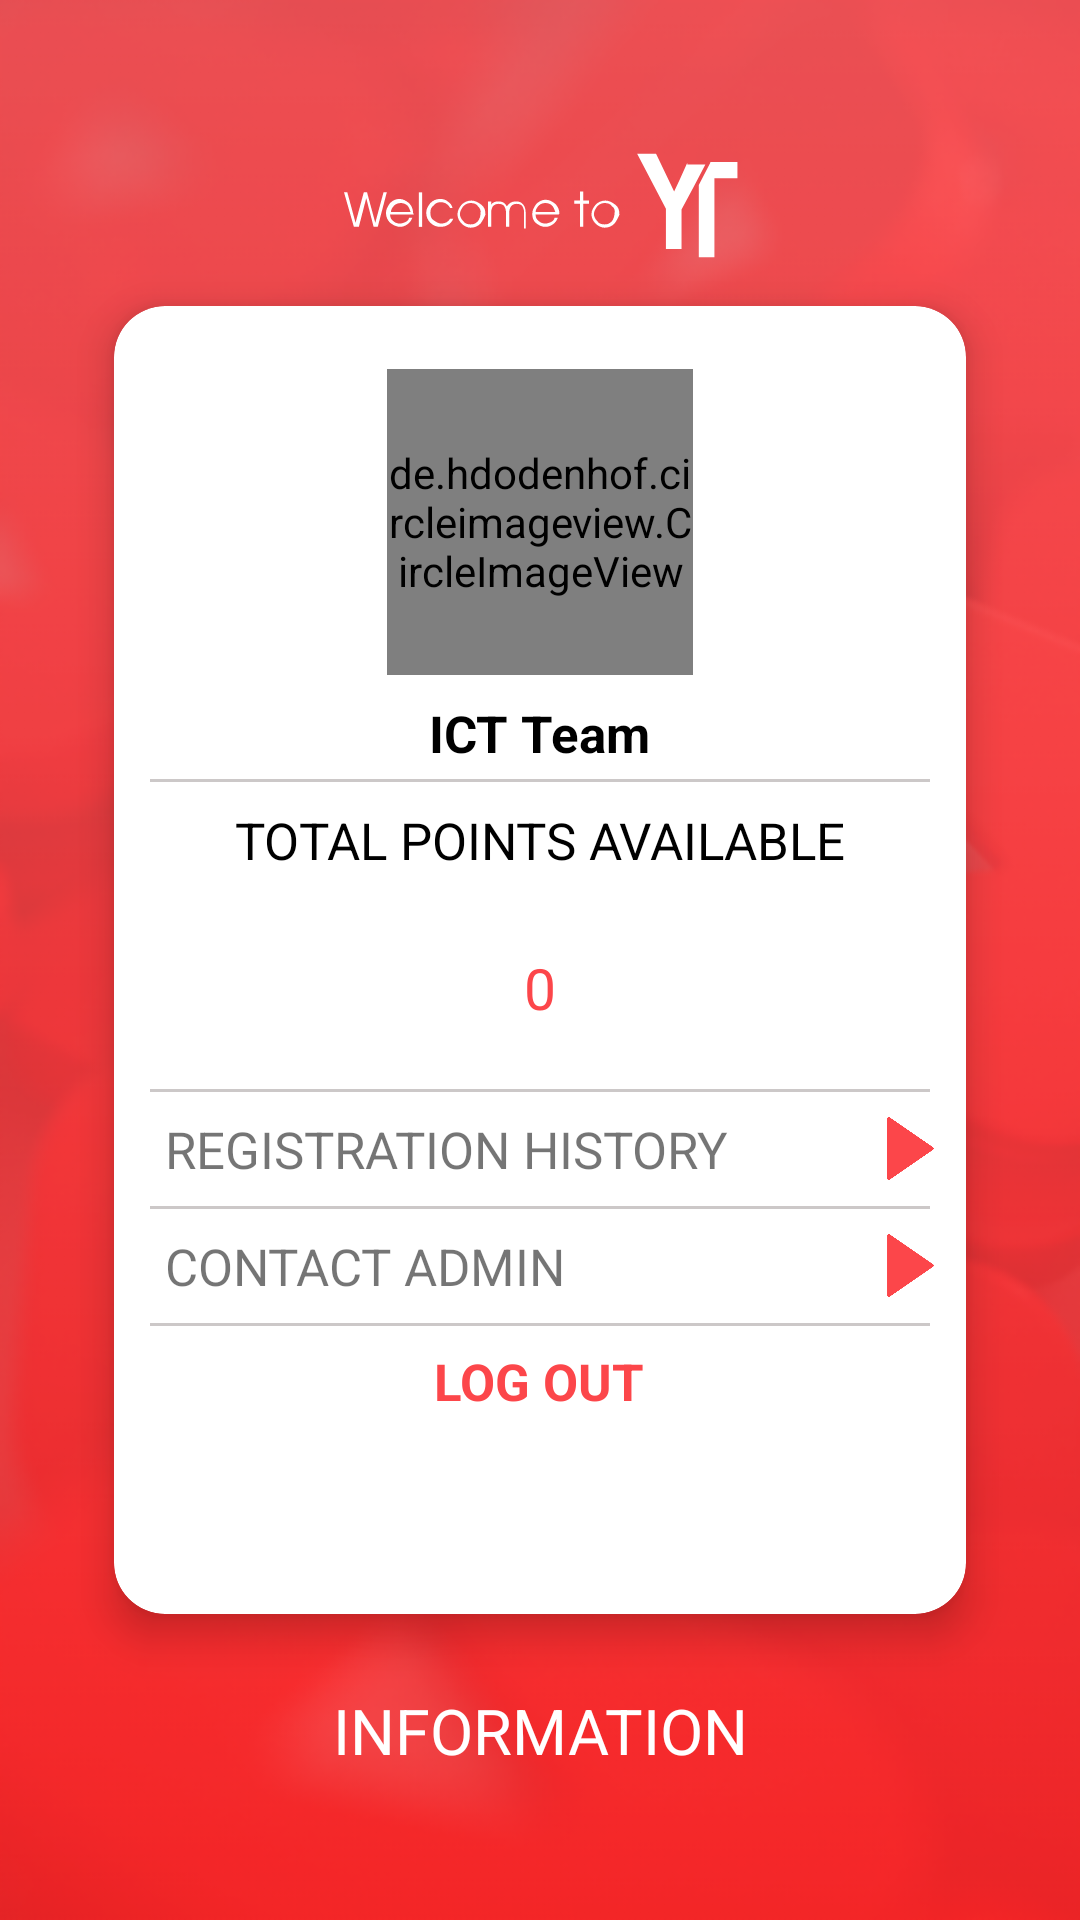

Icon bounding boxes for this 1080 x 1920 phone screenshot, format (x1, y1, x2, y2):
arrow right: (887, 1117, 934, 1180), (887, 1234, 934, 1297)
